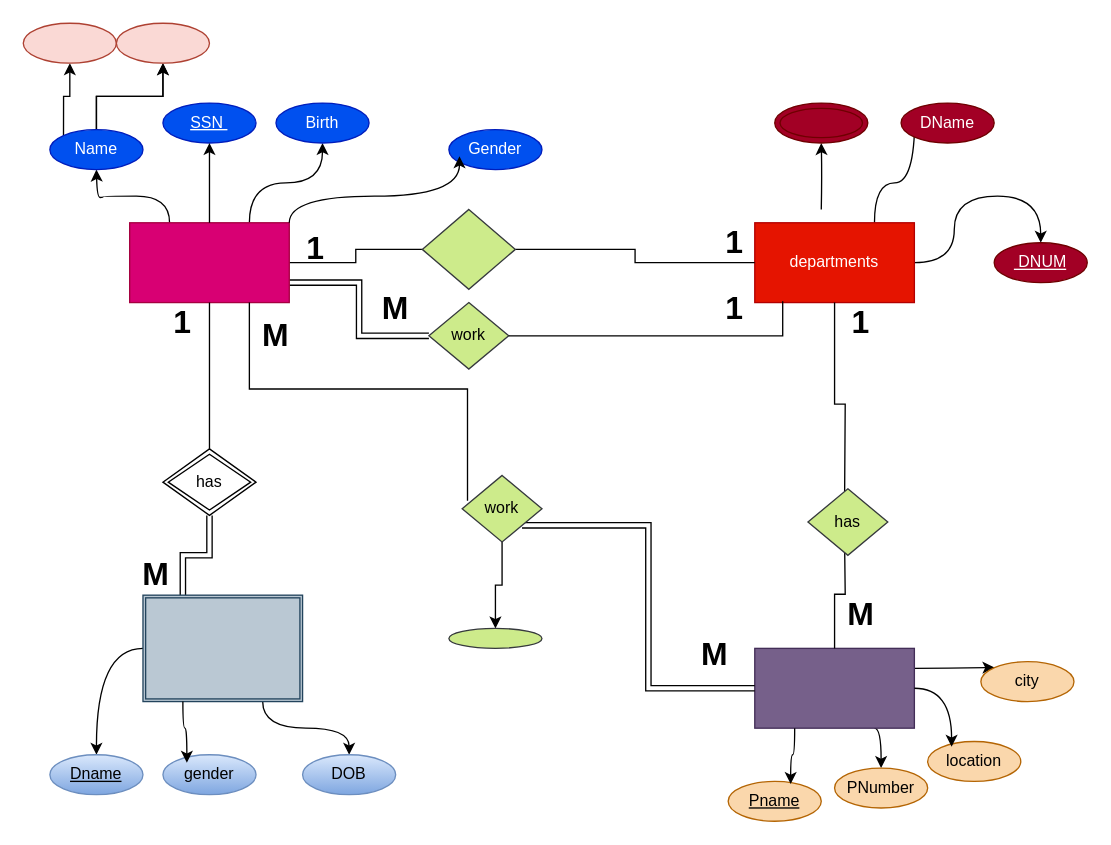
Some shapes in this 1111 by 845 pixel diagram are drawn without their labels. Each missing label, with the centre of its shape:
"dependent" belongs at point 222,648.
"employee" belongs at point 208,262.
"Fname" belongs at point 69,42.
"Lname" belongs at point 162,42.
"locations" belongs at point 820,122.
"Manage" belongs at point 468,248.
"project" belongs at point 833,687.
"W.H" belongs at point 495,637.
